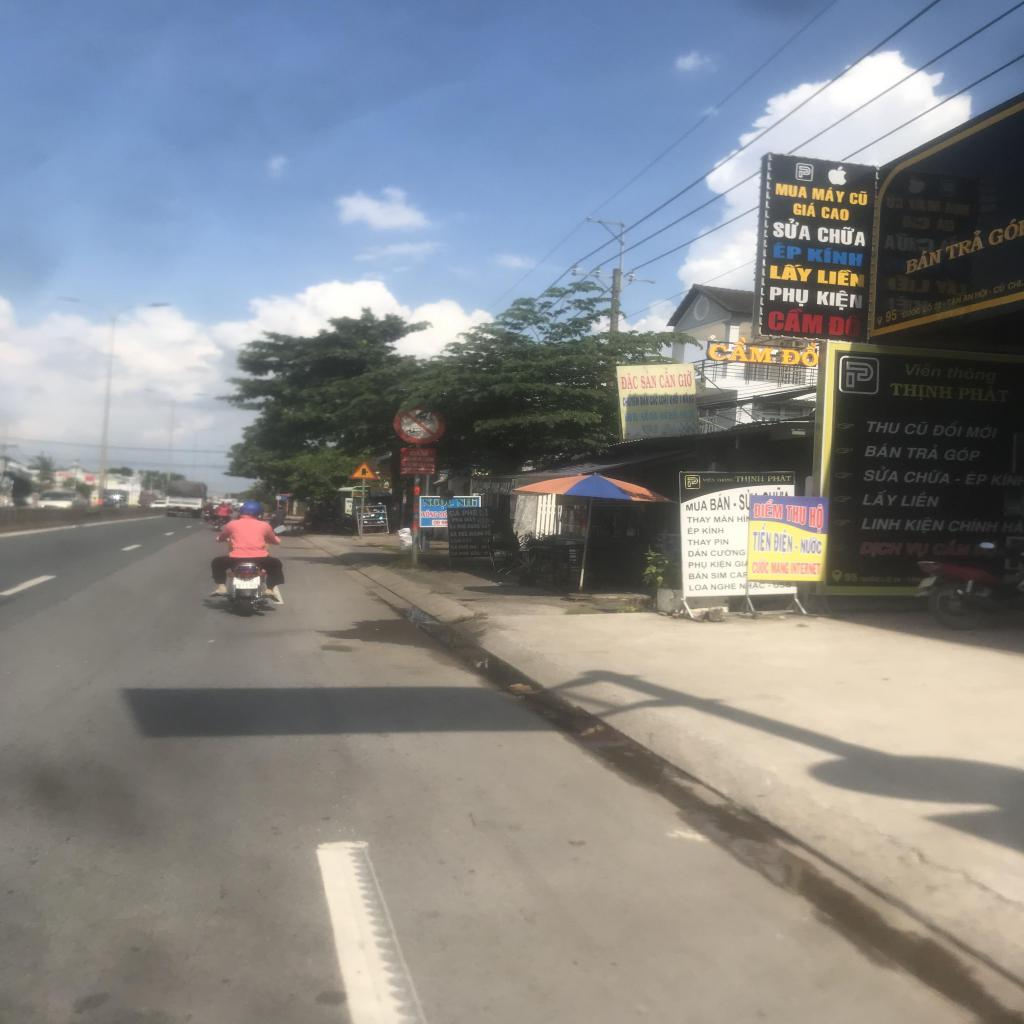cam_cac_loai_xe_3_banh: (392, 405, 446, 445)
giao_nhau_voi_duong_khong_uu_tien: (350, 461, 378, 479)
